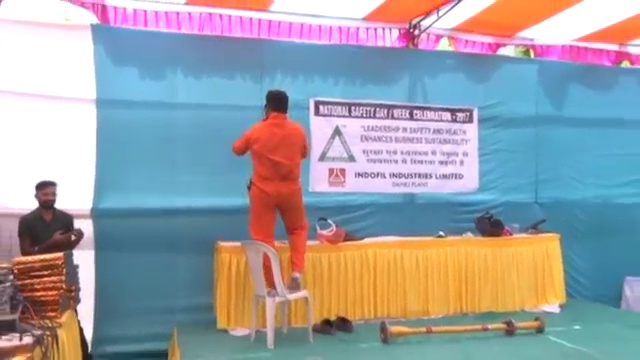helmet_off: (263, 87, 291, 120), (32, 178, 59, 210)
person: (231, 85, 312, 288), (18, 176, 84, 263)
